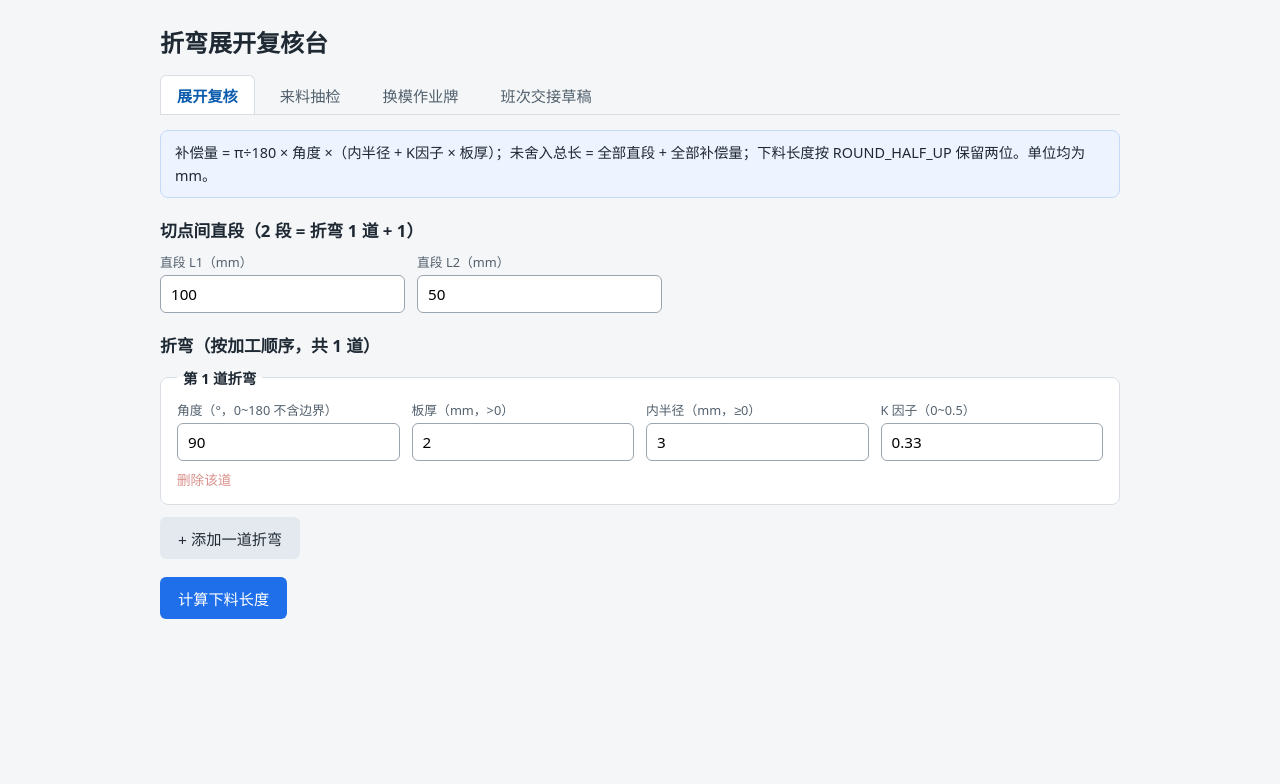
来料抽检视图 › 进入视图时加载最近抽检记录并展示判定
Click the tab "来料抽检": click(310, 95) [263,75,358,114]
(page scrolled)
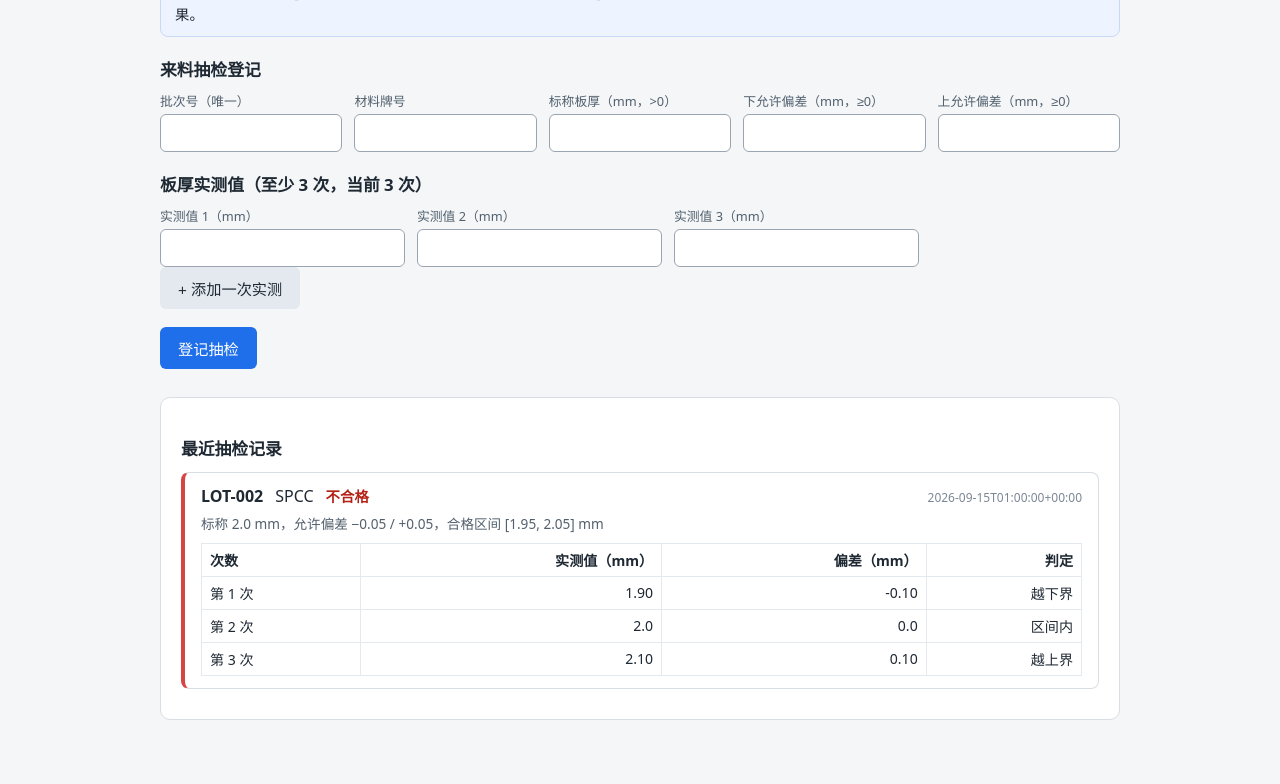
Check: the element with test id "inspection-record-LOT-002" is shown, box [181,472,1099,689]
Check: the text with test id "inspection-verdict-LOT-002" reads "不合格", box [326,487,369,506]
Check: the row with test id "inspection-measurement-LOT-002-1" shows "越下界", box [1031,584,1073,603]
